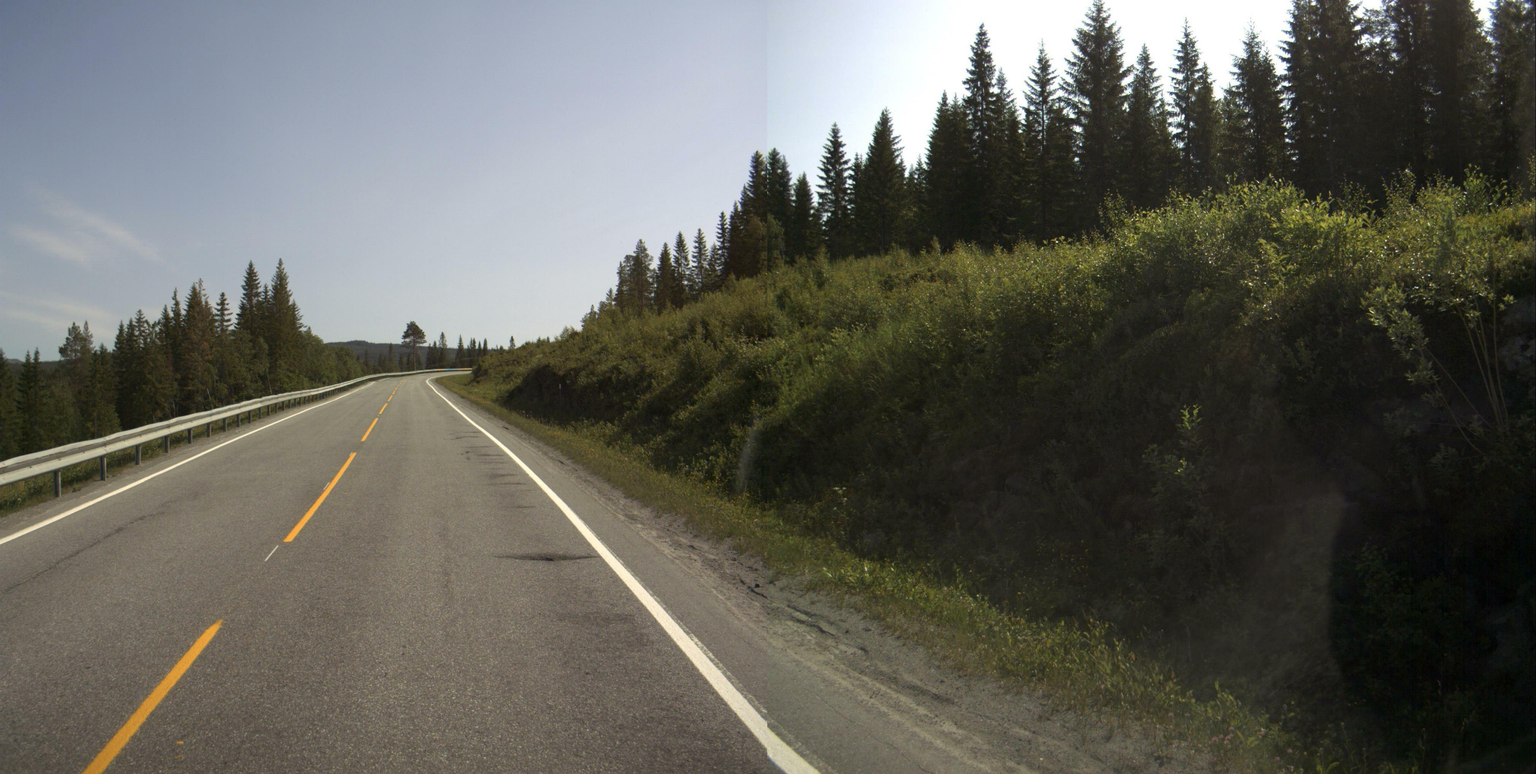pothole: (495, 551, 595, 563)
